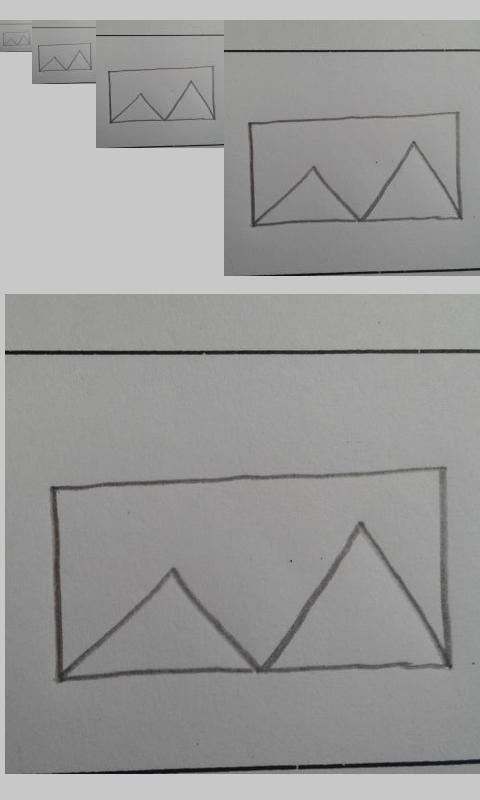image_view: (46, 462, 454, 686), (242, 109, 465, 230), (107, 65, 217, 125), (37, 42, 92, 72), (2, 31, 31, 47)
